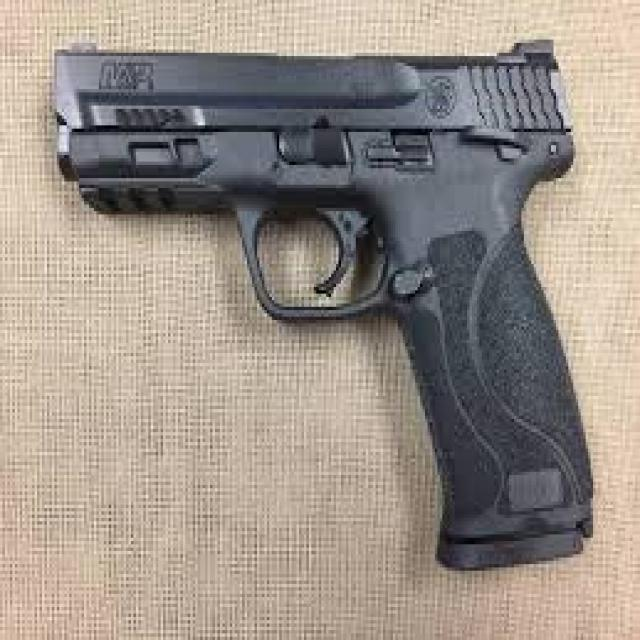semi automatic: (36, 19, 613, 592)
